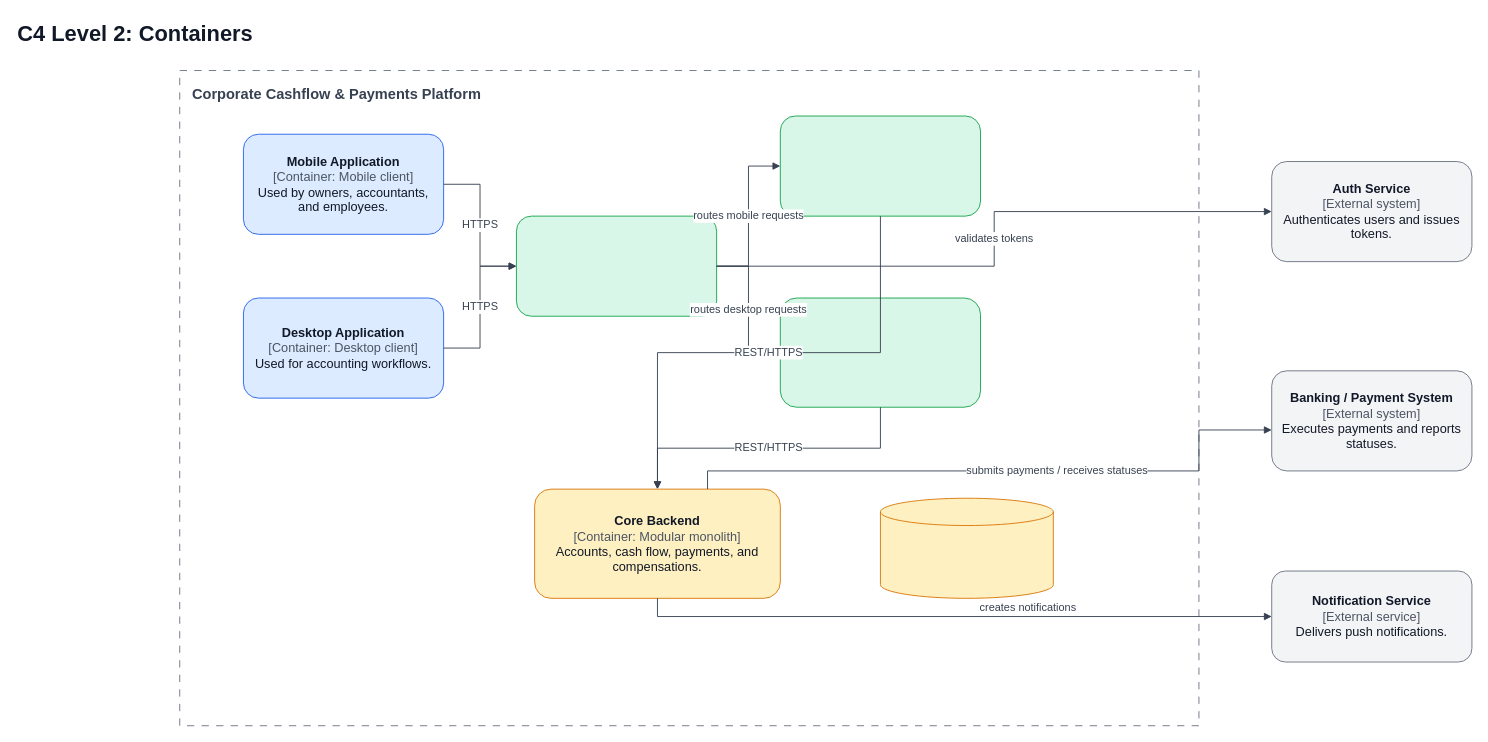
Image size: 1488x742. Some labels were removed from this diagram. Each missing label, with the box of its shape:
API Gateway [Container: NGINX] Routes client requests to the appropriate BFF.: (516, 215, 717, 316)
Data base [Container: PostgreSQL] Stores business and payment data.: (880, 497, 1053, 598)
Desktop BFF [Container: API] Shapes APIs for desktop workflows.: (779, 297, 981, 407)
Mobile BFF [Container: API] Shapes APIs for mobile workflows.: (779, 115, 981, 216)
